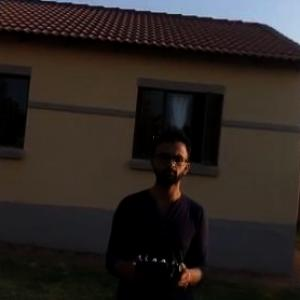follow: (106, 125, 220, 299)
